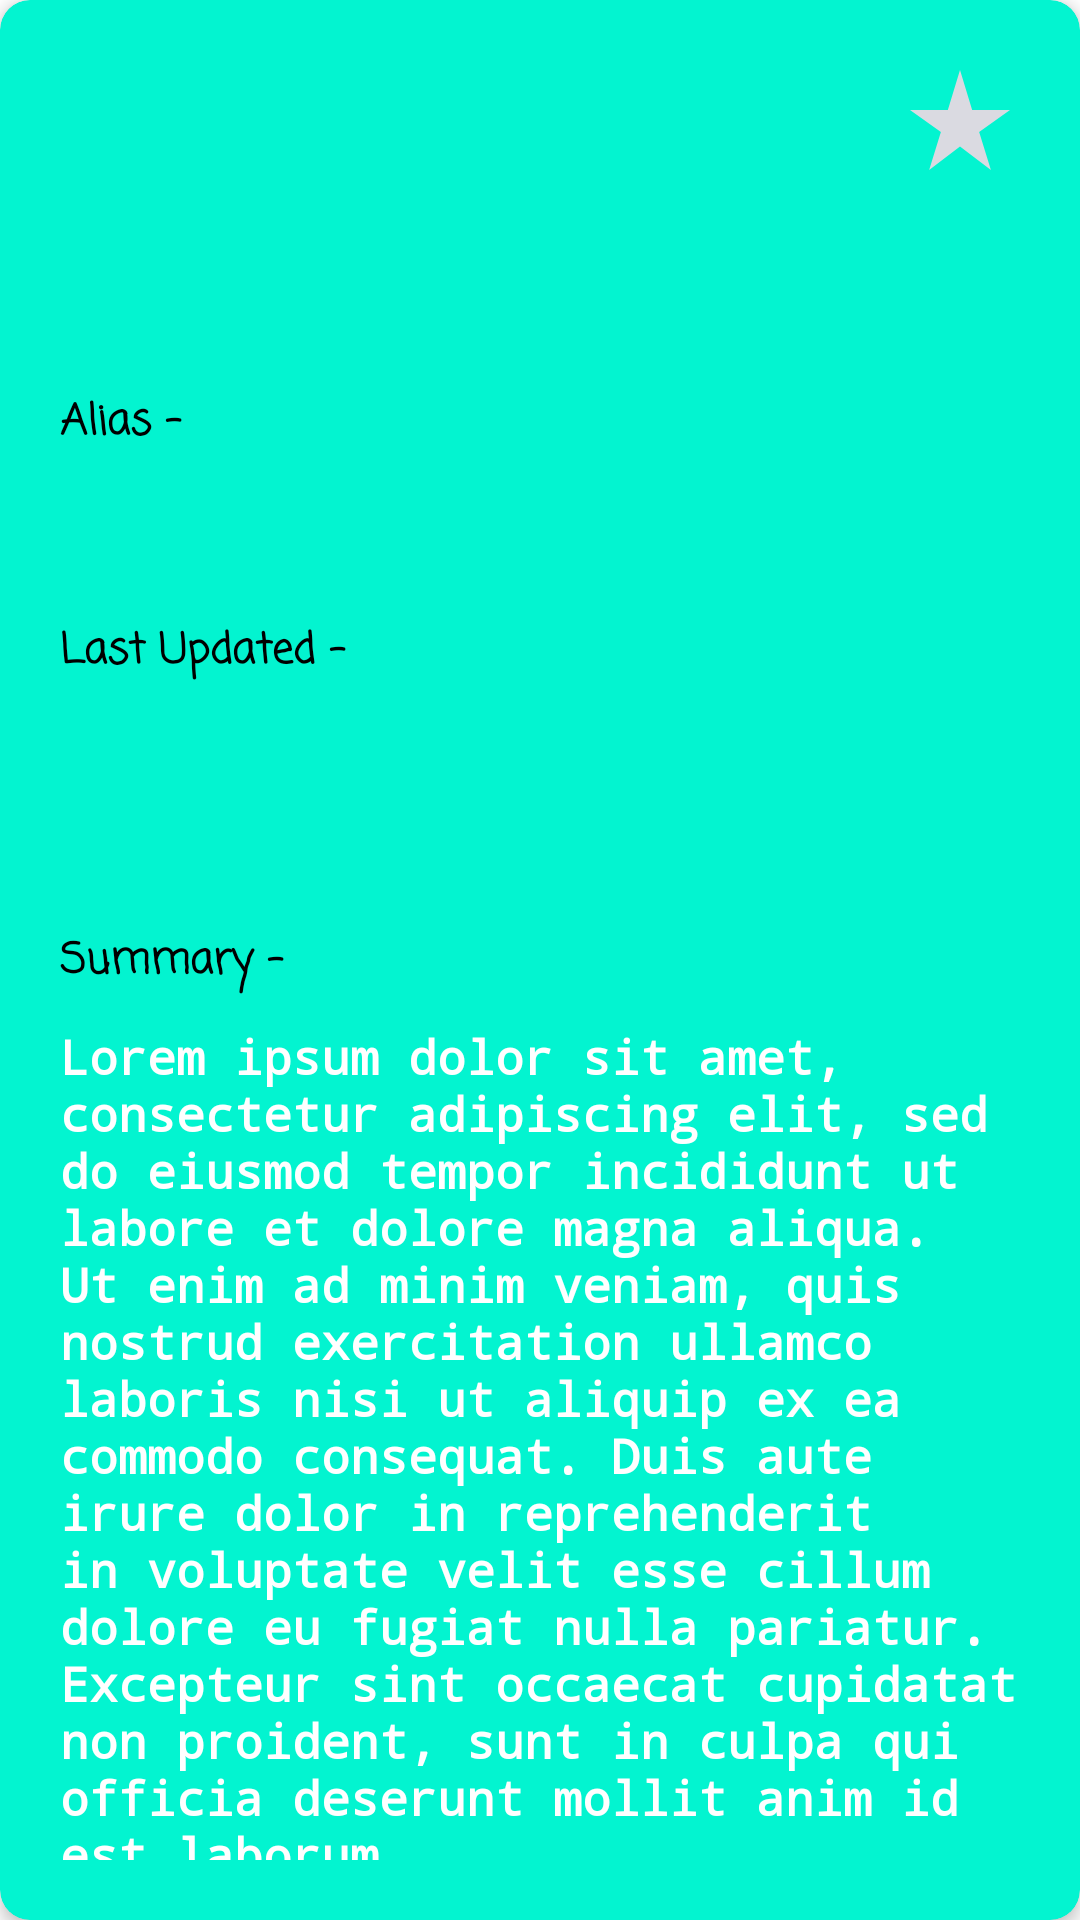

Where icons sit on this 1080×1920 app screen, as bbox=(x1, y1, x2, y2):
star rate: bbox=(910, 70, 1010, 170)
